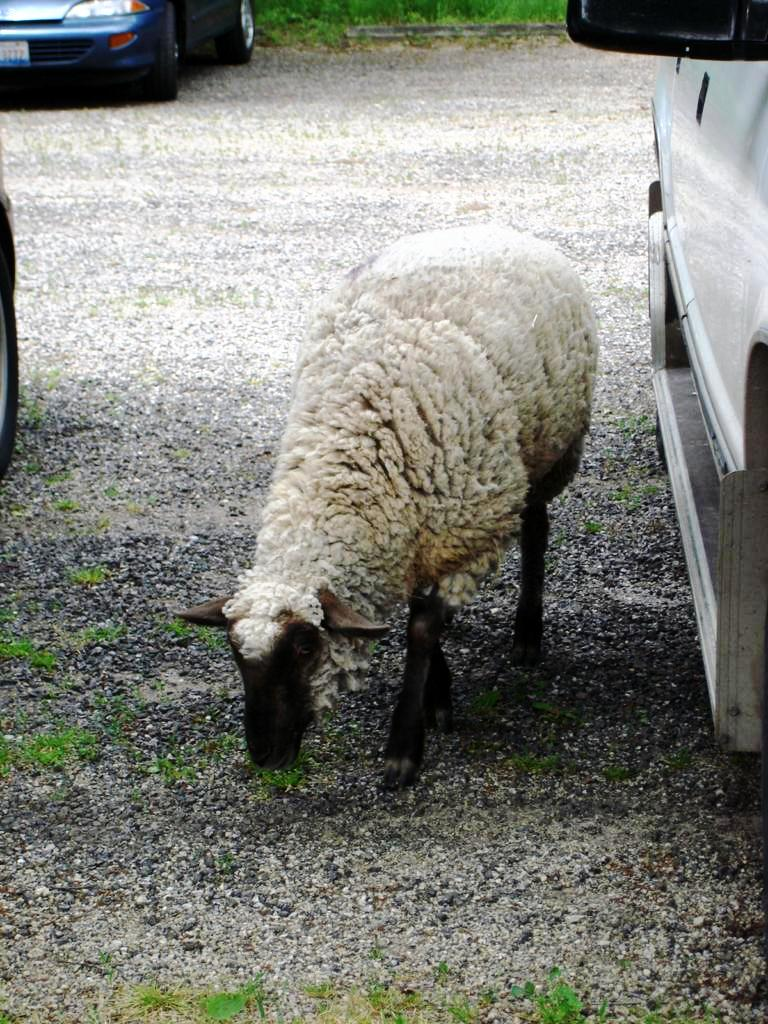Sheep: (177, 219, 606, 767)
